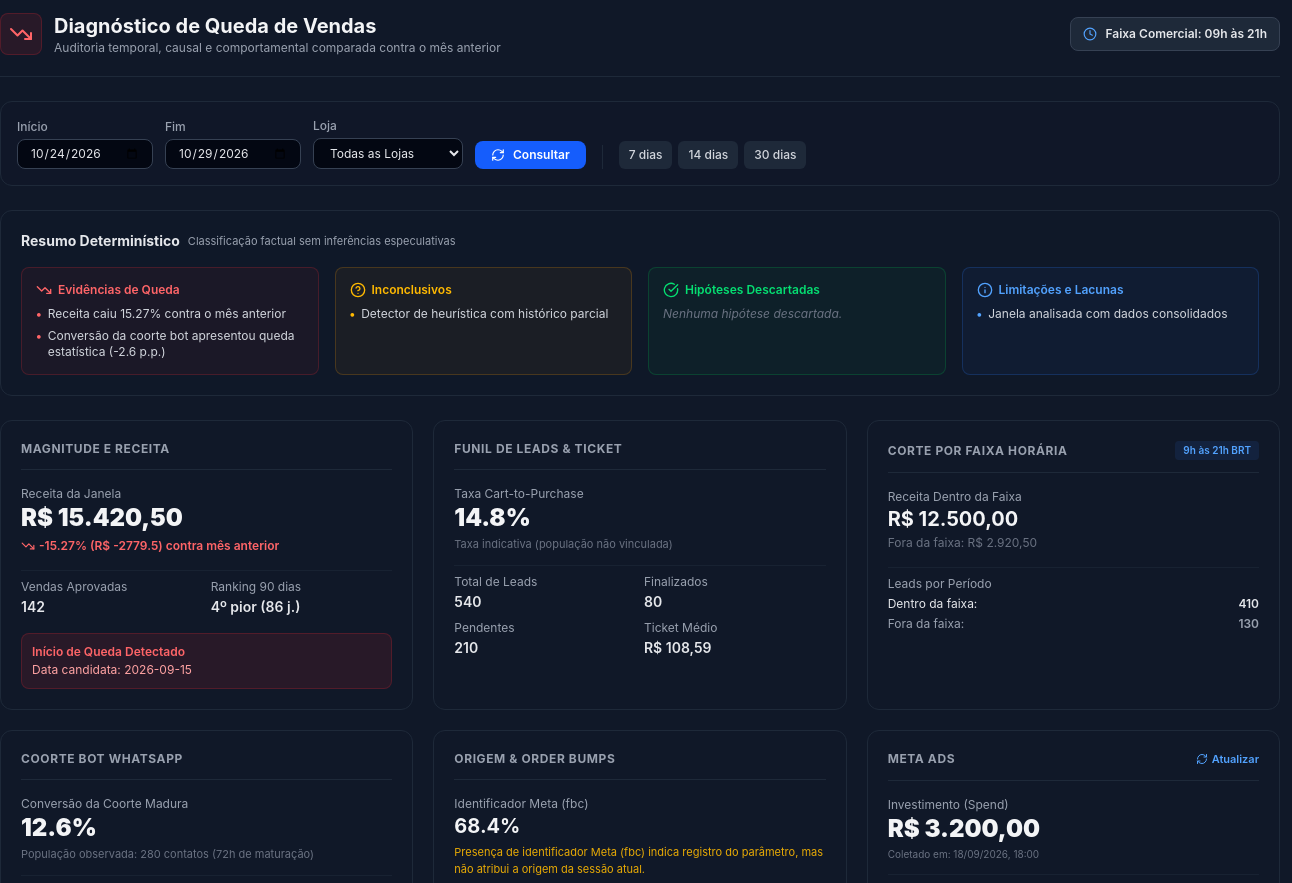
SalesDiagnostics Component (T7) › 7. Rate limit 429 no refresh do Meta Ads desabilita o botao com cooldown
Check: the text "Meta Ads" is shown, box top-left (888, 751), bottom-right (955, 767)
Click the button "Atualizar".
click(1227, 759)  # box top-left (1196, 751), bottom-right (1259, 768)
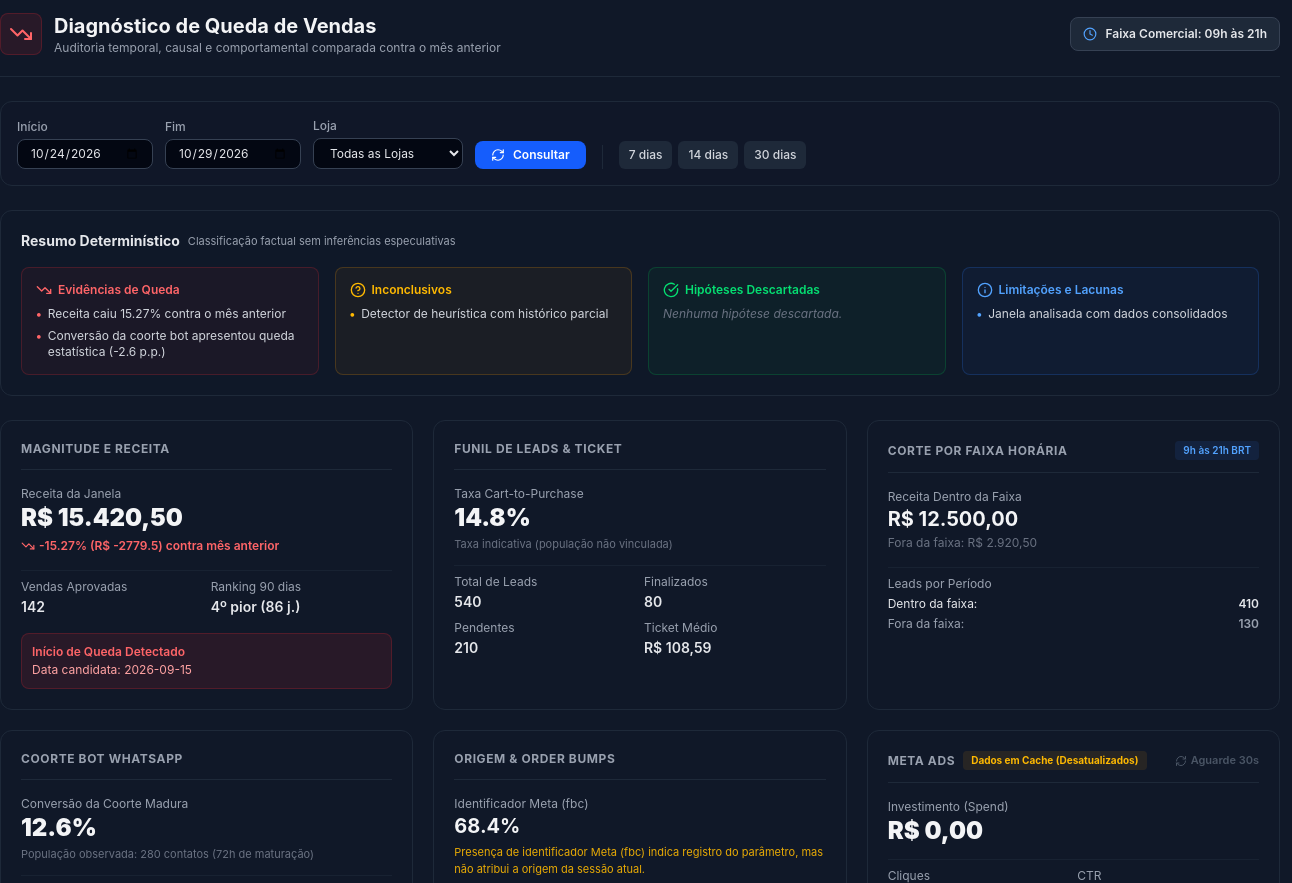
Check: the button "Aguarde 30s" is disabled, box top-left (1175, 752), bottom-right (1259, 769)
